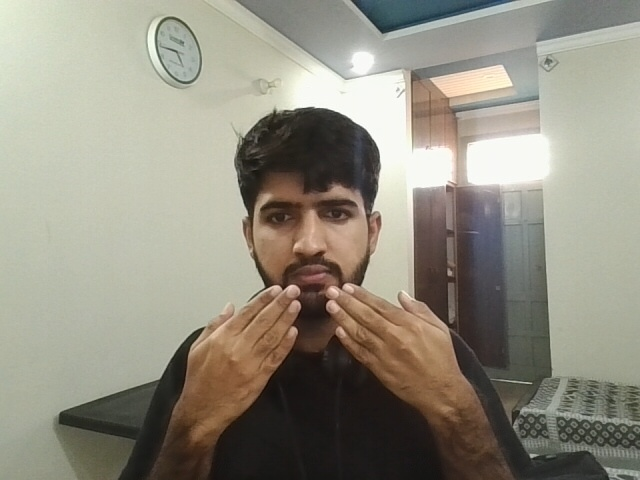Thanks: (135, 272, 524, 451)
